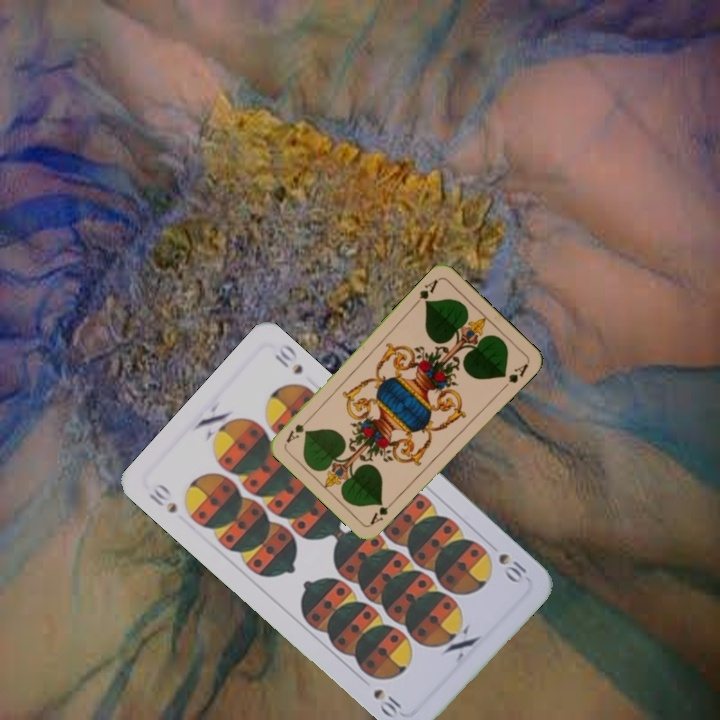GA: (366, 495, 399, 528), (410, 275, 441, 308)
S10: (494, 549, 530, 587), (144, 479, 180, 516)
